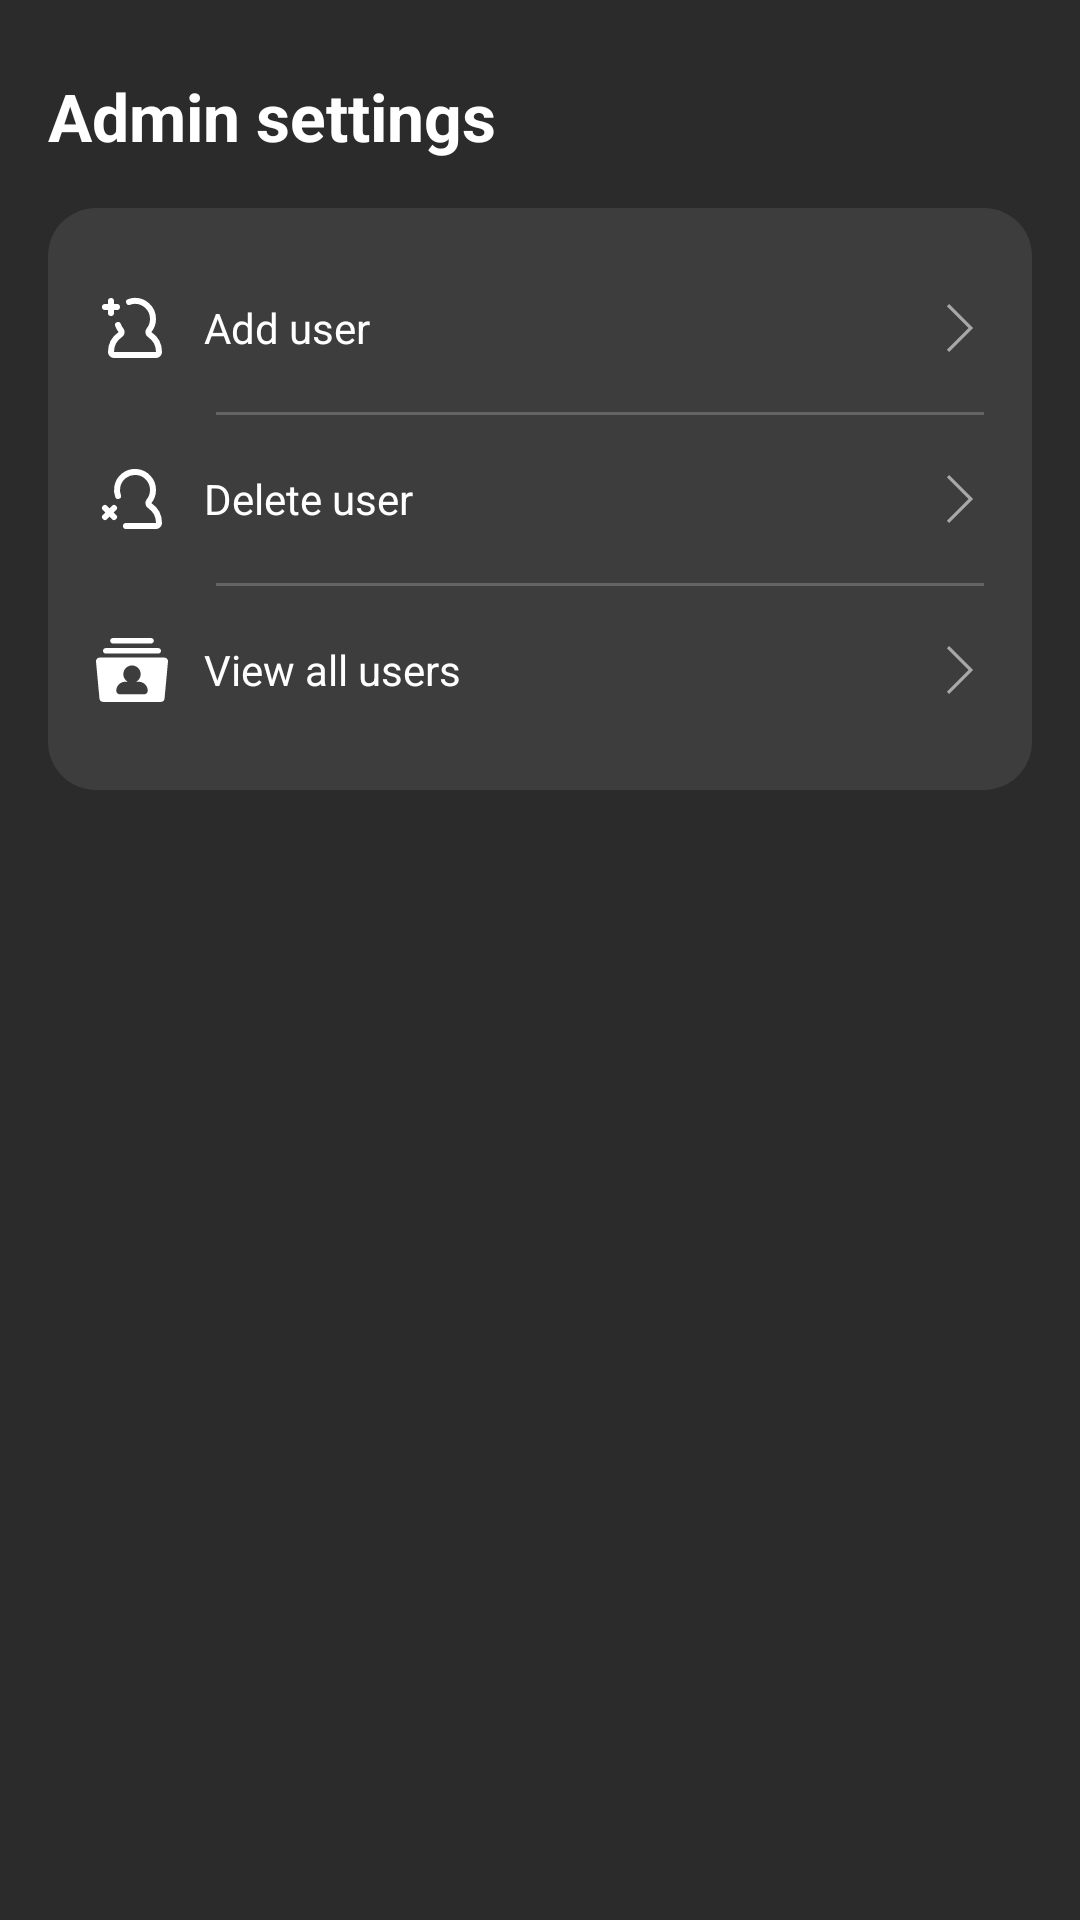

Point at icon controls on the screen. Image size 1080*1920, points as point (x, y).
chevron right: point (960, 328), point (960, 499), point (960, 670)
user list: point (132, 670)
